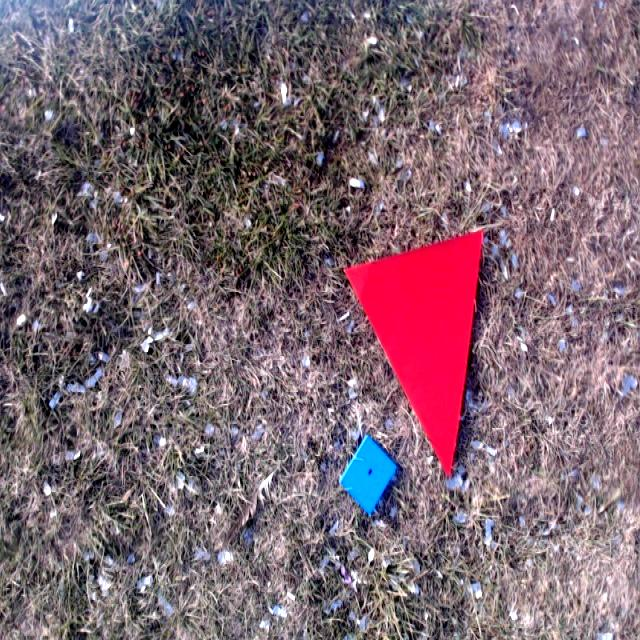blue_square: (341, 427, 395, 513)
red_triangle: (341, 222, 484, 480)
